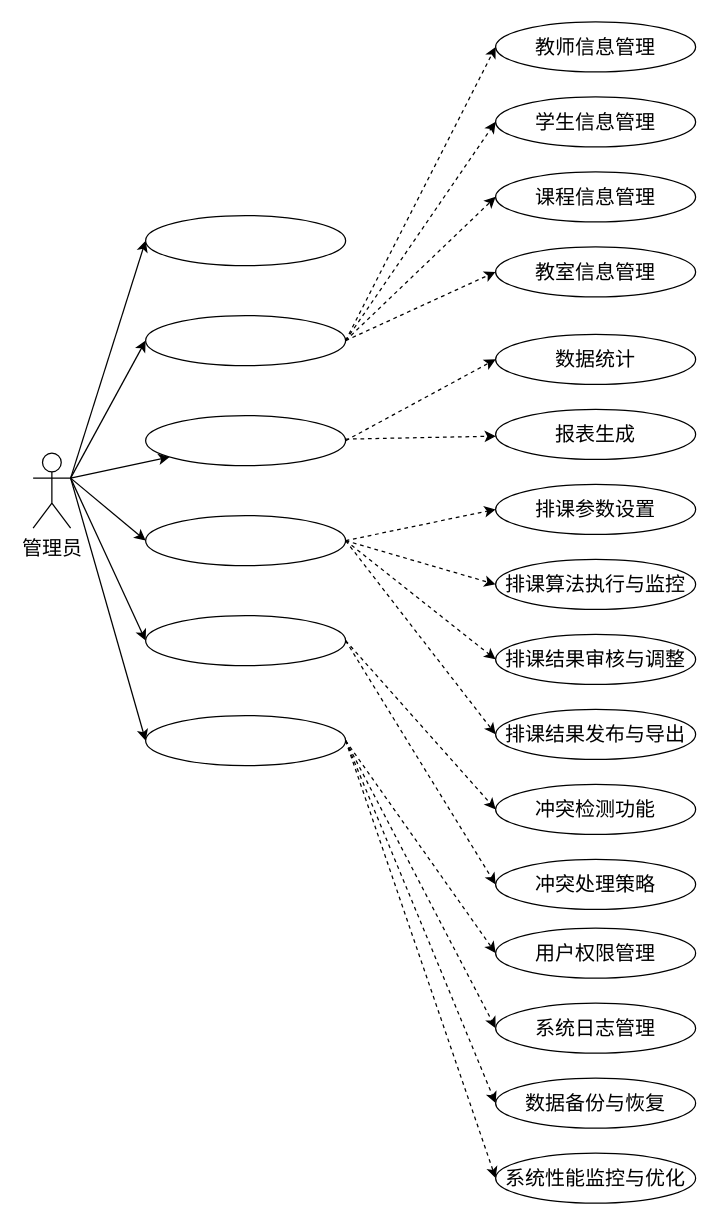
Image size: 718x1225. Some labels were removed from this diagram. The centre of each missing label's shape, as x and y in pixels:
"基础数据管理" belongs at point 245,340.
"排课管理" belongs at point 245,540.
"系统设置与维护" belongs at point 245,740.
"课程冲突检测与处理" belongs at point 245,640.
"选课数据管理" belongs at point 245,440.
"首页展示" belongs at point 245,240.
